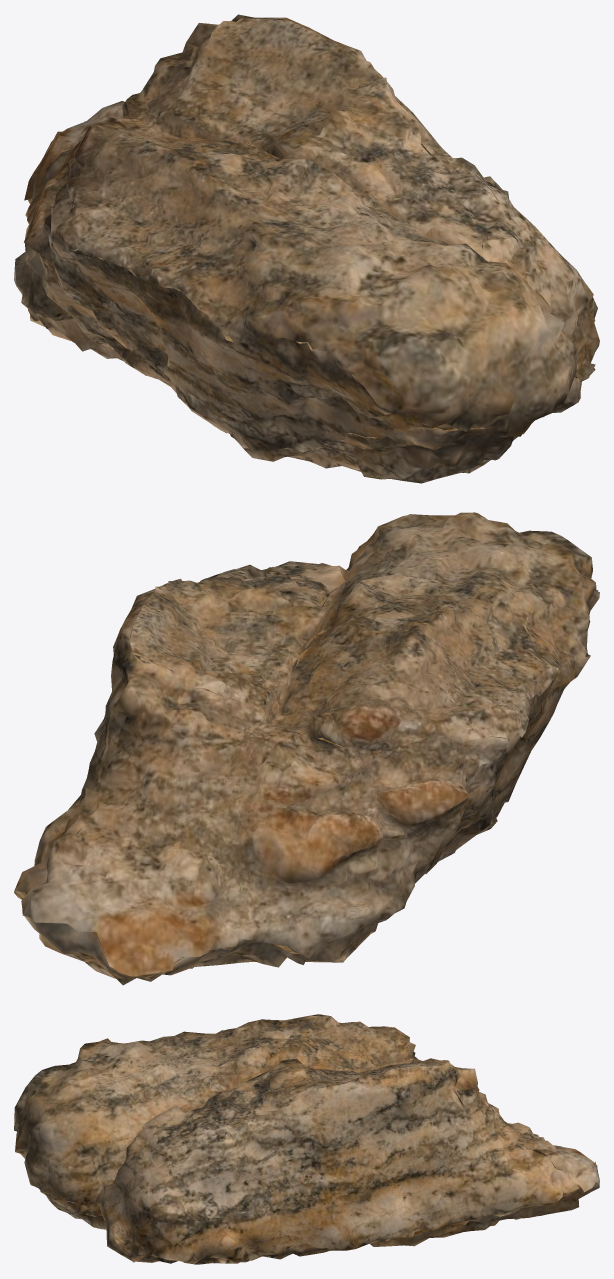
Rendered from ore_boulder_b.glb.
The picture shows the model from 3 angles, top to bottom: view 1: azimuth 30°, elevation 25°; view 2: azimuth 150°, elevation 25°; view 3: azimuth 270°, elevation 25°; orthographic projection. The views are drawn at different scales.
Parts seen in each view (by area): view 1: namaqualand_rocks_01_b; view 2: namaqualand_rocks_01_b; view 3: namaqualand_rocks_01_b.
Part boxes in pixels (box(x1,y1,x2,y2)): namaqualand_rocks_01_b: box(14, 14, 599, 483); namaqualand_rocks_01_b: box(14, 512, 599, 985); namaqualand_rocks_01_b: box(14, 1014, 599, 1264).
Bounding box in the file's own units: 0.4753 × 0.2922 × 0.8169.
1 material, 1 textured.
